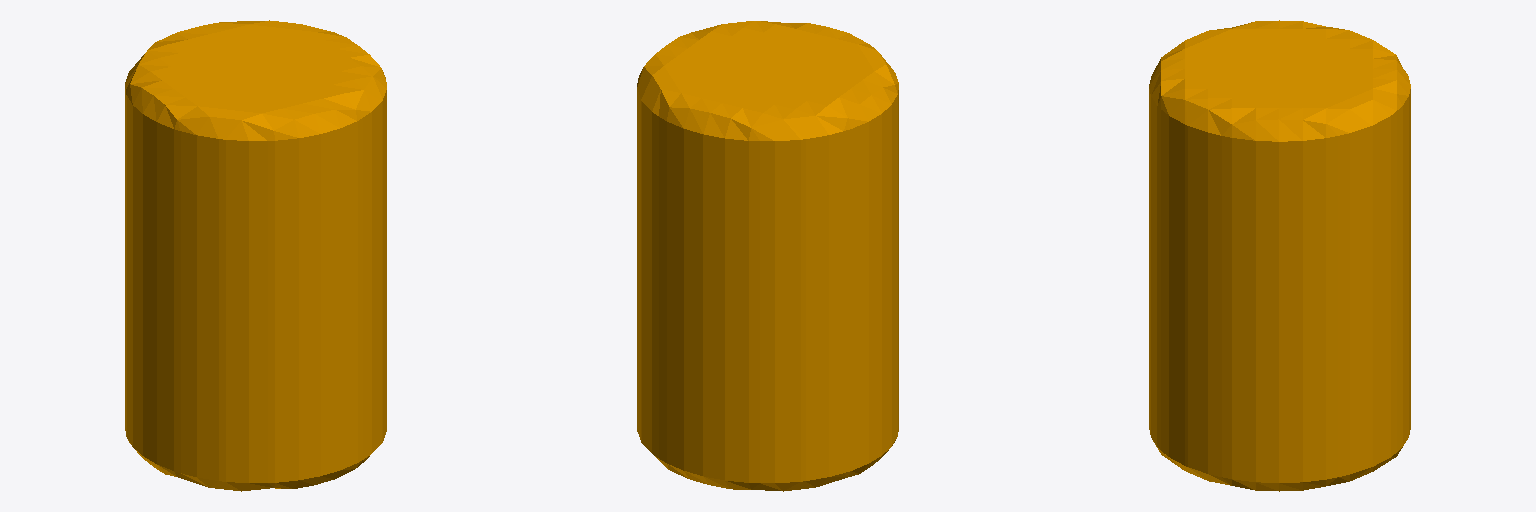
robot.urdf — cylinder_../../meshes/cylinders/cylinder_5.stl:
<?xml version="1.0" encoding="utf-8"?>  <robot name="cylinder_../../meshes/cylinders/cylinder_5.stl">   <link name="cylinder_../../meshes/cylinders/cylinder_5.stl">     <visual>       <geometry>         <mesh filename="../meshes/cylinders/cylinder_5.stl" scale="1 1 1"/>       </geometry>     </visual>     <collision>       <geometry>         <mesh filename="../meshes/cylinders/cylinder_5.stl" scale="1 1 1"/>       </geometry>     </collision>     <inertial>        <origin         xyz="0 0 0"         rpy="0 0 0" />       <mass value="0.20950438728265888"/>       <origin rpy="0 0 0" xyz="0 0 0"/>       <inertia ixx="0.0001714300293681666" ixy="-6.5360642083098725e-09" ixz="6.322248411656683e-09" iyy="0.00017143002630500597" iyz="7.48118190748341e-09" izz="7.990205815572608e-05"/>     </inertial>   </link>  </robot>

--- Render facts (derived) ---
The picture shows the robot from 3 angles, left to right: view 1: azimuth 30°, elevation 25°; view 2: azimuth 150°, elevation 25°; view 3: azimuth 270°, elevation 25°; orthographic projection.
Robot: cylinder_../../meshes/cylinders/cylinder_5.stl — 1 links, 0 joints (none); root link cylinder_../../meshes/cylinders/cylinder_5.stl; default pose: all joints at 0.
Links seen in each view (by area): view 1: cylinder_../../meshes/cylinders/cylinder_5.stl; view 2: cylinder_../../meshes/cylinders/cylinder_5.stl; view 3: cylinder_../../meshes/cylinders/cylinder_5.stl.
Link boxes in pixels (<box>): cylinder_../../meshes/cylinders/cylinder_5.stl: <box>125,20,386,491</box>; cylinder_../../meshes/cylinders/cylinder_5.stl: <box>637,21,898,491</box>; cylinder_../../meshes/cylinders/cylinder_5.stl: <box>1149,20,1410,491</box>.
Size in the robot's own frame: 0.0556 by 0.0556 by 0.0876 metres.
Meshes: 1 distinct files referenced, 1 mesh visuals loaded (1 binary STL).